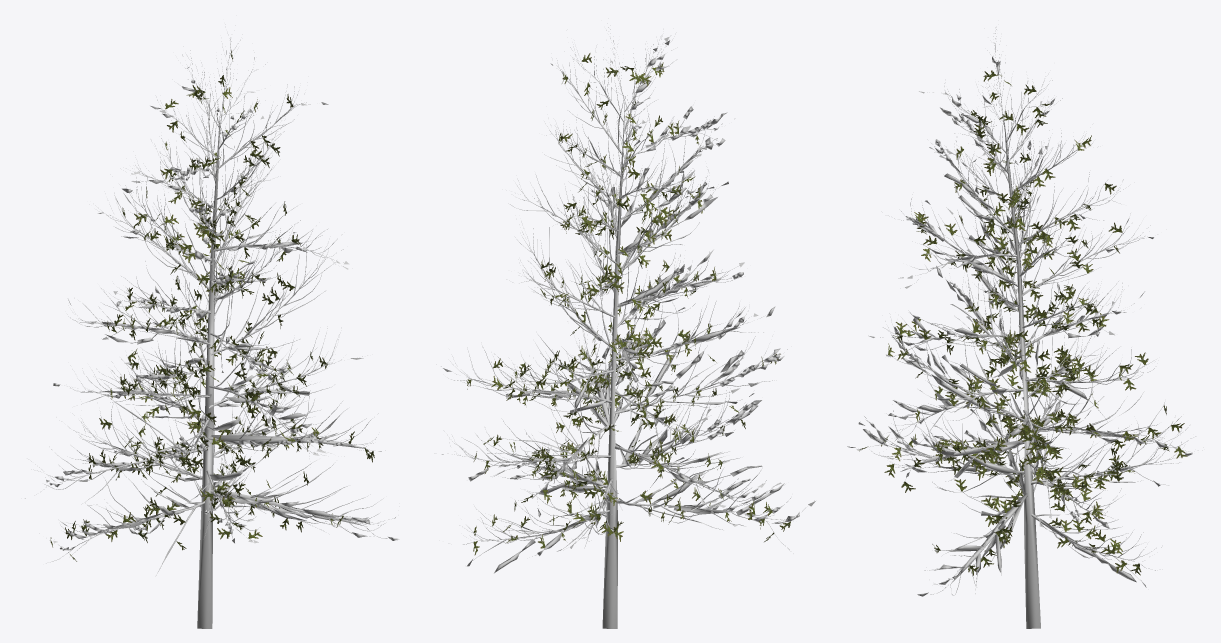
The model's file is Tree5.fbx.
3 renders of one model, left to right at view 1: azimuth 30°, elevation 25°; view 2: azimuth 150°, elevation 25°; view 3: azimuth 270°, elevation 25°, orthographic. The views are drawn at different scales.
Parts seen in each view (by area): view 1: Tree5(leafless); view 2: Tree5(leafless); view 3: Tree5(leafless).
Part boxes in pixels (bbox=[...]): Tree5(leafless): bbox=[24, 37, 399, 628]; Tree5(leafless): bbox=[441, 27, 815, 628]; Tree5(leafless): bbox=[847, 27, 1195, 628].
Size of the model in its own units: 441 by 730 by 401.
